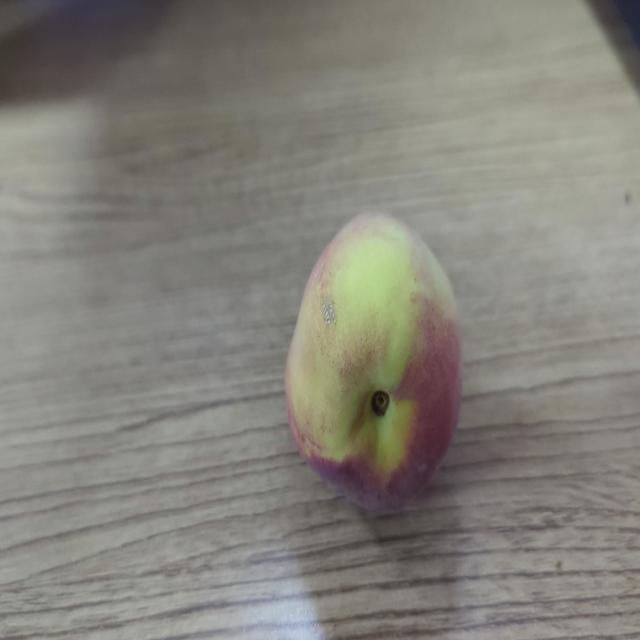Persik: (284, 208, 468, 520)
